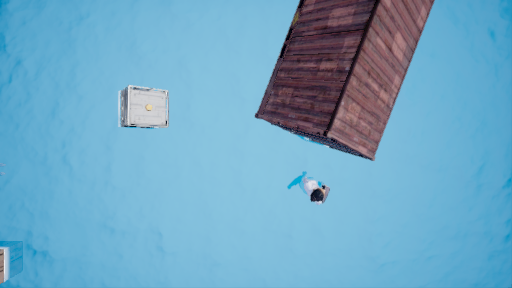person: (282, 170, 339, 205)
